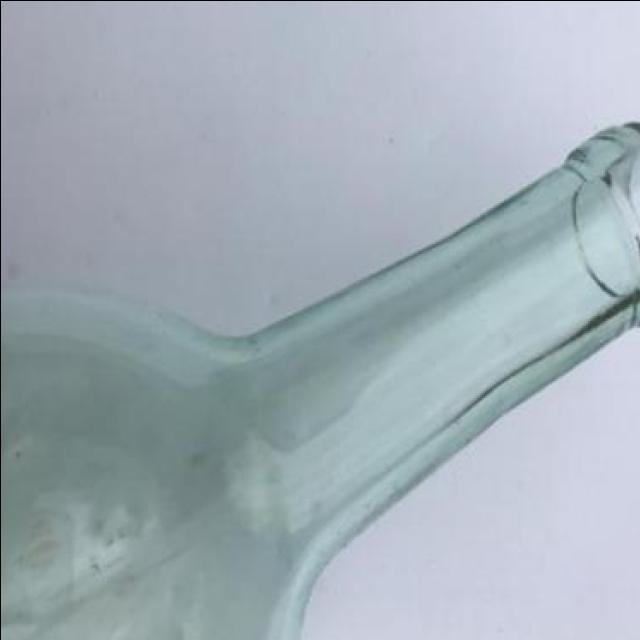kaca: (0, 121, 640, 640)
